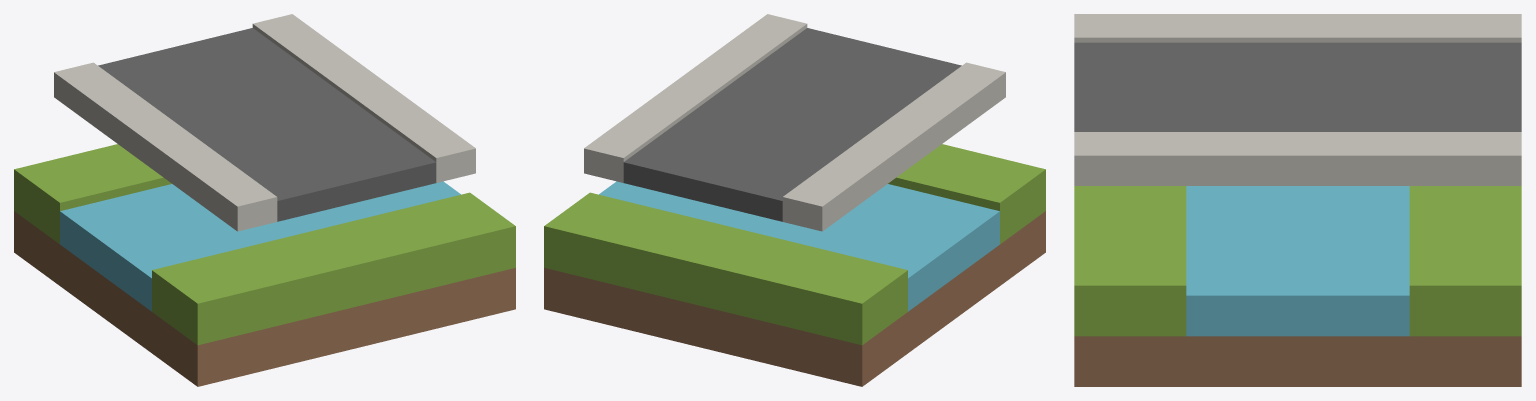
File: road-bridge-river.obj
3 renders of one model, left to right at view 1: azimuth 30°, elevation 25°; view 2: azimuth 150°, elevation 25°; view 3: azimuth 270°, elevation 25°, orthographic. The views are drawn at different scales.
Parts seen in each view (by area): view 1: road-bridge-river_Cube.549; view 2: road-bridge-river_Cube.549; view 3: road-bridge-river_Cube.549.
Boxes of the visible parts, bbox=[...] form: road-bridge-river_Cube.549: bbox=[14, 14, 515, 386]; road-bridge-river_Cube.549: bbox=[544, 14, 1045, 386]; road-bridge-river_Cube.549: bbox=[1074, 14, 1521, 386].
Bounding box in the file's own units: 8 × 4.1 × 8.
Materials: 1 (1 with a texture image).
